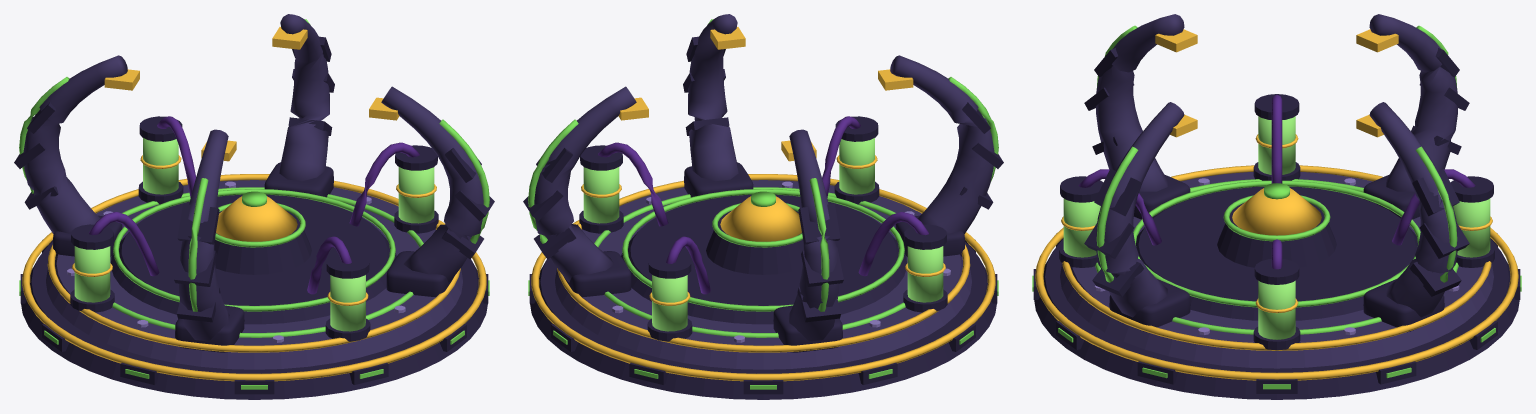
The model's file is P_GooberBreach.fbx.
3 views of the same model, side by side, from view 1: azimuth 30°, elevation 25°; view 2: azimuth 150°, elevation 25°; view 3: azimuth 270°, elevation 25° (orthographic). The views are drawn at different scales.
Visible parts, largest first — view 1: P_GooberBreach__MetalDark, P_GooberBreach__Metal, P_GooberBreach__Trim, P_GooberBreach__Glow, P_GooberBreach__Slime, P_GooberBreach__Hose, P_GooberBreach__Bolt; view 2: P_GooberBreach__MetalDark, P_GooberBreach__Metal, P_GooberBreach__Trim, P_GooberBreach__Glow, P_GooberBreach__Slime, P_GooberBreach__Hose, P_GooberBreach__Bolt; view 3: P_GooberBreach__MetalDark, P_GooberBreach__Metal, P_GooberBreach__Trim, P_GooberBreach__Glow, P_GooberBreach__Slime, P_GooberBreach__Hose, P_GooberBreach__Bolt.
Part boxes in pixels (box(x1,y1,x2,y2)): P_GooberBreach__MetalDark: box(14, 36, 494, 399); P_GooberBreach__Metal: box(23, 14, 483, 369); P_GooberBreach__Trim: box(22, 27, 486, 381); P_GooberBreach__Glow: box(19, 19, 489, 389); P_GooberBreach__Slime: box(74, 138, 434, 331); P_GooberBreach__Hose: box(89, 116, 419, 294); P_GooberBreach__Bolt: box(67, 181, 405, 342); P_GooberBreach__MetalDark: box(523, 36, 1003, 399); P_GooberBreach__Metal: box(534, 14, 994, 369); P_GooberBreach__Trim: box(531, 27, 995, 381); P_GooberBreach__Glow: box(528, 19, 998, 389); P_GooberBreach__Slime: box(583, 138, 943, 331); P_GooberBreach__Hose: box(598, 116, 928, 294); P_GooberBreach__Bolt: box(612, 181, 950, 342); P_GooberBreach__MetalDark: box(1033, 48, 1520, 399); P_GooberBreach__Metal: box(1060, 14, 1493, 368); P_GooberBreach__Trim: box(1035, 29, 1518, 380); P_GooberBreach__Glow: box(1032, 25, 1521, 389); P_GooberBreach__Slime: box(1063, 116, 1490, 339); P_GooberBreach__Hose: box(1078, 95, 1475, 269); P_GooberBreach__Bolt: box(1094, 178, 1459, 334).
Size of the model in its own units: 26.16 by 14.05 by 26.16.
